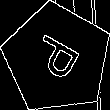P_SE: (26, 30, 88, 87)
